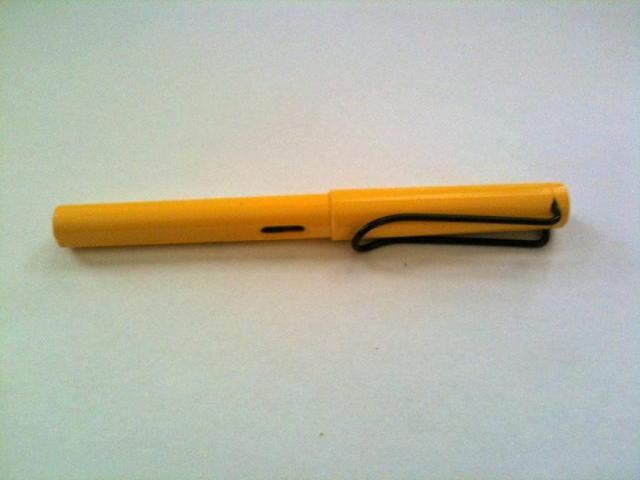PEN: (52, 182, 569, 261)
